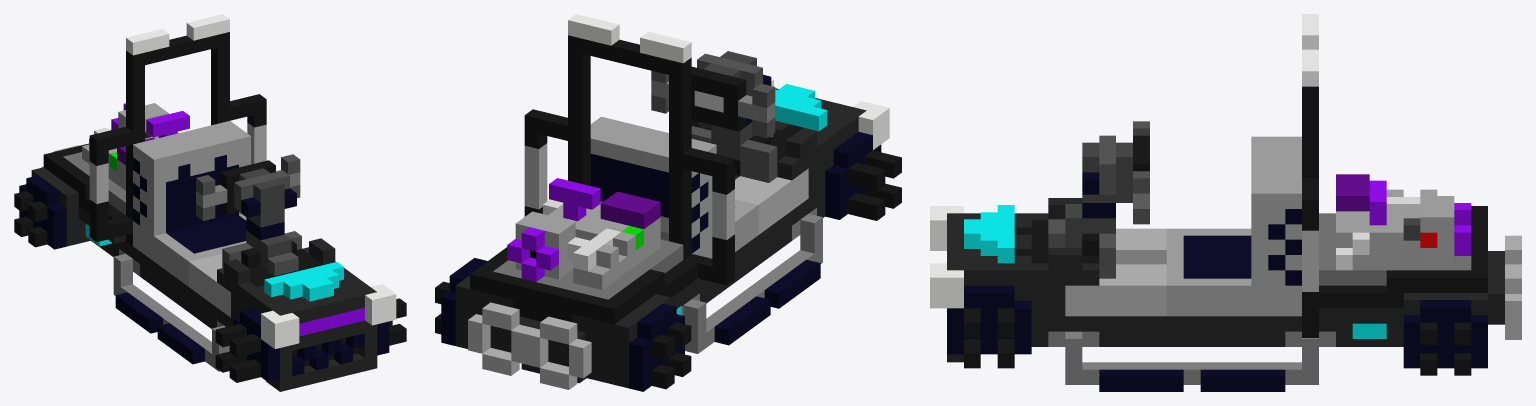
Rendered from Black_Gray_Kart_Chassis.obj.
3 renders of one model, left to right at view 1: azimuth 30°, elevation 25°; view 2: azimuth 150°, elevation 25°; view 3: azimuth 270°, elevation 25°, orthographic. The views are drawn at different scales.
Size of the model in its own units: 1.6 by 2 by 3.5.
1 material, 1 textured.
